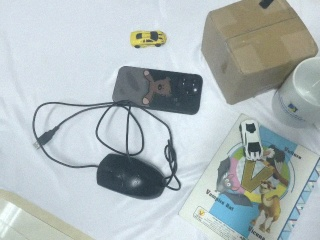book: (175, 113, 319, 240)
box: (201, 1, 318, 106)
cup: (273, 53, 320, 140)
mouse: (96, 152, 166, 201)
phone: (112, 66, 204, 116)
toy_car: (129, 29, 167, 49)
